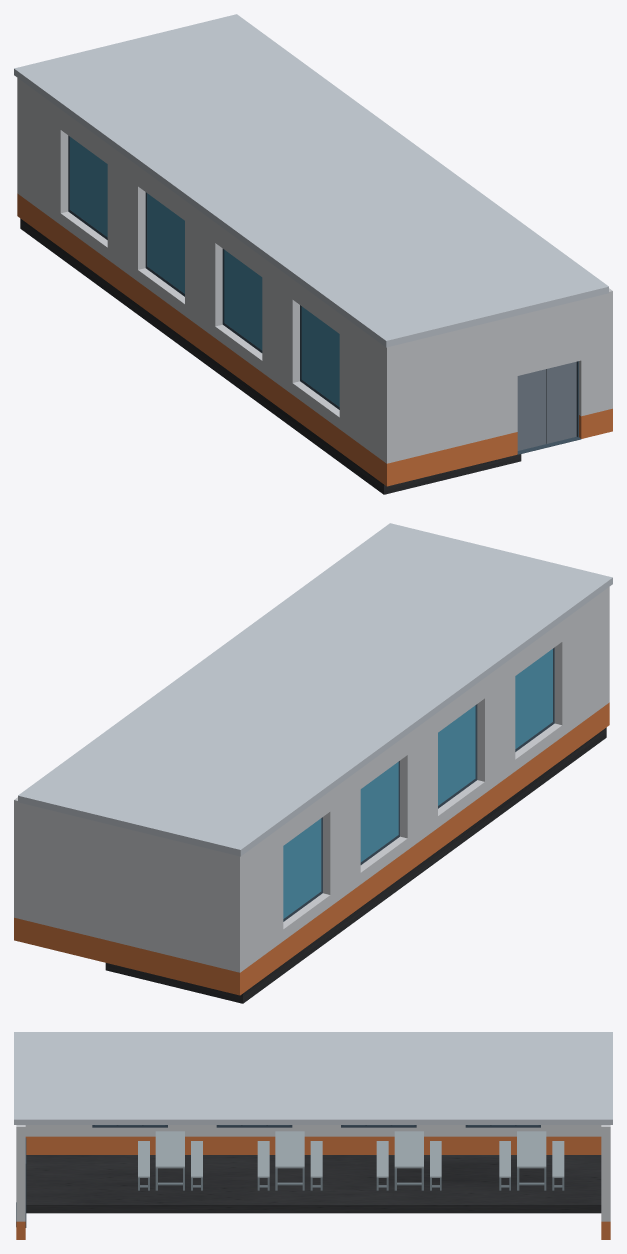
Rendered from QuackCook_Exterior_Hall.glb.
The picture shows the model from 3 angles, top to bottom: view 1: azimuth 30°, elevation 25°; view 2: azimuth 150°, elevation 25°; view 3: azimuth 270°, elevation 25°; orthographic projection. The views are drawn at different scales.
Parts seen in each view (by area): view 1: Hall_Roof_Removable, Hall_Walls_Continuous, Hall_Floor_Extension, Hall_Window_02_Glass_Single, Hall_Window_01_Glass_Single, Hall_Window_03_Glass_Single, Hall_Window_04_Glass_Single, Hall_Door_Leaf_2_Continuous, Hall_Door_Leaf_1_Continuous; view 2: Hall_Roof_Removable, Hall_Walls_Continuous, Hall_Floor_Extension, Hall_Window_03_Glass_Single, Hall_Window_04_Glass_Single, Hall_Window_02_Glass_Single, Hall_Window_01_Glass_Single; view 3: Hall_Roof_Removable, Hall_Floor_Extension, Hall_Walls_Continuous, Dining_Table.001, Dining_Table.002, Dining_Table.003, Dining_Table, Dining_Bench_Left.001, Dining_Bench_Right.001, Dining_Bench_Left.002, Dining_Bench_Right.003, Dining_Bench_Left.003 (+3 smaller).
Boxes of the visible parts, box(x1,y1,x2,y2) form: Hall_Roof_Removable: box(14, 14, 608, 347); Hall_Walls_Continuous: box(17, 78, 612, 486); Hall_Floor_Extension: box(20, 218, 521, 494); Hall_Window_02_Glass_Single: box(224, 250, 262, 350); Hall_Window_01_Glass_Single: box(301, 306, 339, 406); Hall_Window_03_Glass_Single: box(147, 193, 184, 293); Hall_Window_04_Glass_Single: box(70, 137, 107, 236); Hall_Door_Leaf_2_Continuous: box(546, 361, 576, 443); Hall_Door_Leaf_1_Continuous: box(517, 369, 545, 450); Hall_Roof_Removable: box(18, 523, 612, 856); Hall_Walls_Continuous: box(14, 587, 609, 995); Hall_Floor_Extension: box(105, 727, 606, 1003); Hall_Window_03_Glass_Single: box(360, 762, 398, 862); Hall_Window_04_Glass_Single: box(283, 818, 321, 918); Hall_Window_02_Glass_Single: box(438, 705, 475, 805); Hall_Window_01_Glass_Single: box(515, 649, 552, 748); Hall_Roof_Removable: box(14, 1032, 612, 1124); Hall_Floor_Extension: box(26, 1155, 601, 1213); Hall_Walls_Continuous: box(16, 1125, 610, 1239); Dining_Table.001: box(275, 1131, 304, 1190); Dining_Table.002: box(394, 1131, 423, 1190); Dining_Table.003: box(517, 1131, 546, 1190); Dining_Table: box(155, 1131, 184, 1190); Dining_Bench_Left.001: box(257, 1141, 269, 1190); Dining_Bench_Right.001: box(310, 1141, 322, 1190); Dining_Bench_Left.002: box(376, 1141, 388, 1190); Dining_Bench_Right.003: box(552, 1141, 564, 1190); Dining_Bench_Left.003: box(499, 1141, 510, 1190).
Bounding box in the file's own units: 23 × 15.17 × 65.02.
16 materials, 1 textured.
